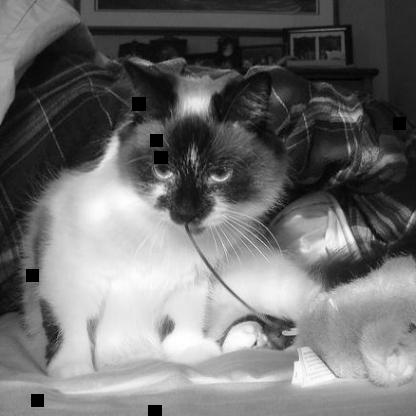cat: (21, 61, 300, 379)
